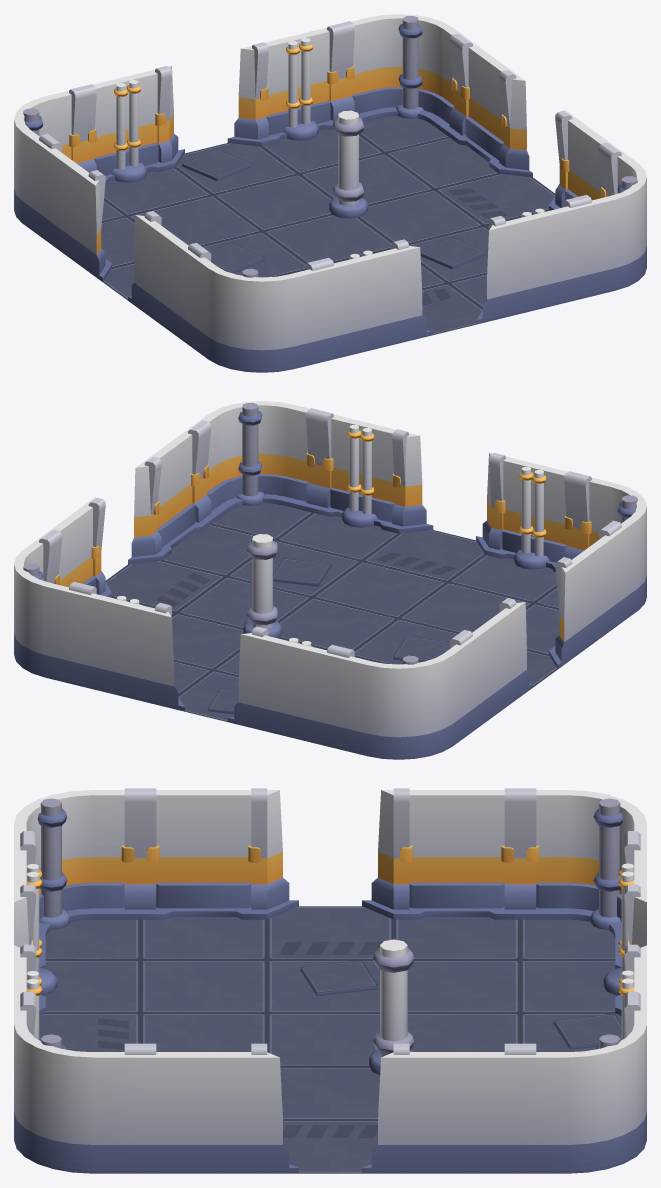
Rendered from room-large.glb.
3 renders of one model, top to bottom at view 1: azimuth 30°, elevation 25°; view 2: azimuth 150°, elevation 25°; view 3: azimuth 270°, elevation 25°, orthographic. The views are drawn at different scales.
Parts seen in each view (by area): view 1: room-large; view 2: room-large; view 3: room-large.
Part boxes in pixels (<box>): room-large: <box>14,14,646,372</box>; room-large: <box>14,401,646,759</box>; room-large: <box>14,788,646,1173</box>.
Size of the model in its own units: 20 by 4.25 by 20.
Materials: 1 (1 with a texture image).
